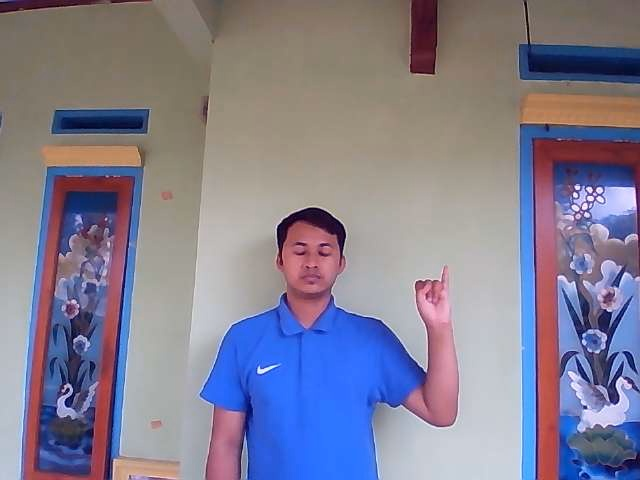I: (413, 264, 453, 321)
